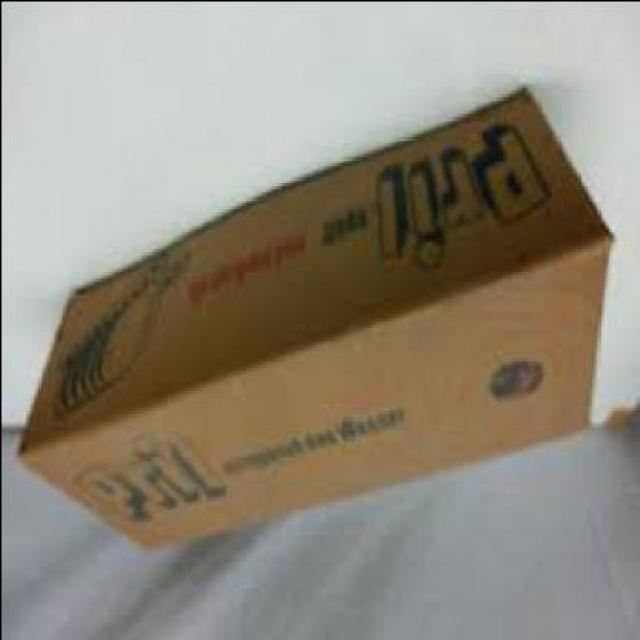box: (20, 89, 615, 551)
